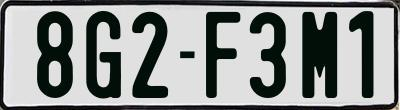1: (349, 8, 375, 99)
2: (130, 9, 169, 95)
3: (250, 9, 291, 96)
8: (37, 10, 73, 99)
F: (206, 12, 242, 98)
G: (83, 9, 120, 102)
M: (301, 11, 336, 101)
